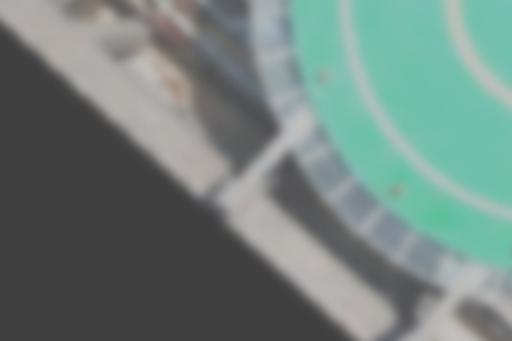Apron: (435, 1, 512, 115)
